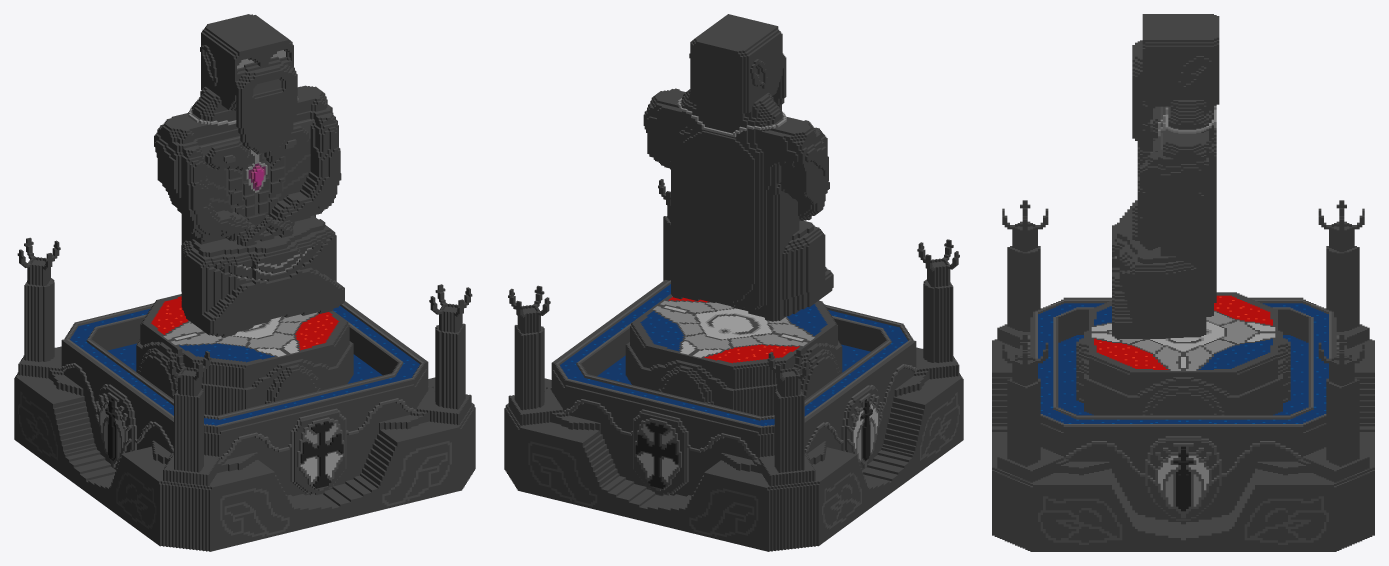
Rendered from босс и алтарь вместе.obj.
3 renders of one model, left to right at view 1: azimuth 30°, elevation 25°; view 2: azimuth 150°, elevation 25°; view 3: azimuth 270°, elevation 25°, orthographic. The views are drawn at different scales.
Bounding box in the file's own units: 15 × 19.2 × 15.
1 material, 1 textured.
